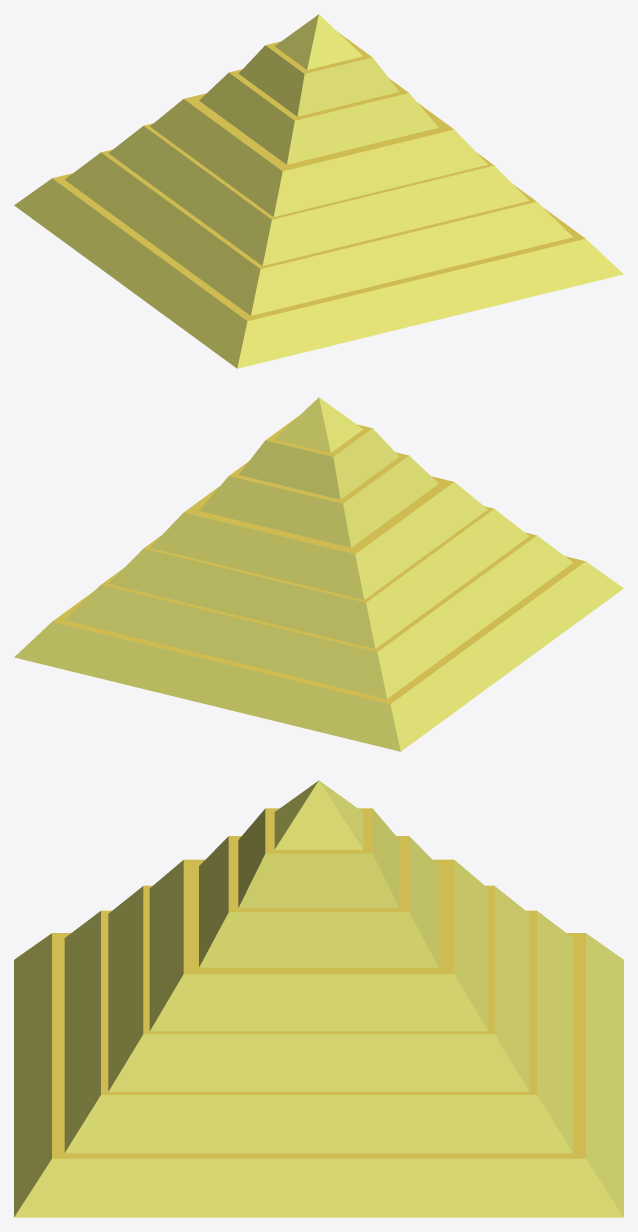
3 renders of one model, top to bottom at view 1: azimuth 30°, elevation 25°; view 2: azimuth 150°, elevation 25°; view 3: azimuth 270°, elevation 25°, orthographic. The views are drawn at different scales.
Parts seen in each view (by area): view 1: Pyramid; view 2: Pyramid; view 3: Pyramid.
Boxes of the visible parts, bbox=[...] form: Pyramid: bbox=[14, 14, 623, 368]; Pyramid: bbox=[14, 397, 623, 751]; Pyramid: bbox=[14, 780, 623, 1217].
Size of the model in its own units: 22.53 by 22.53 by 12.57.
